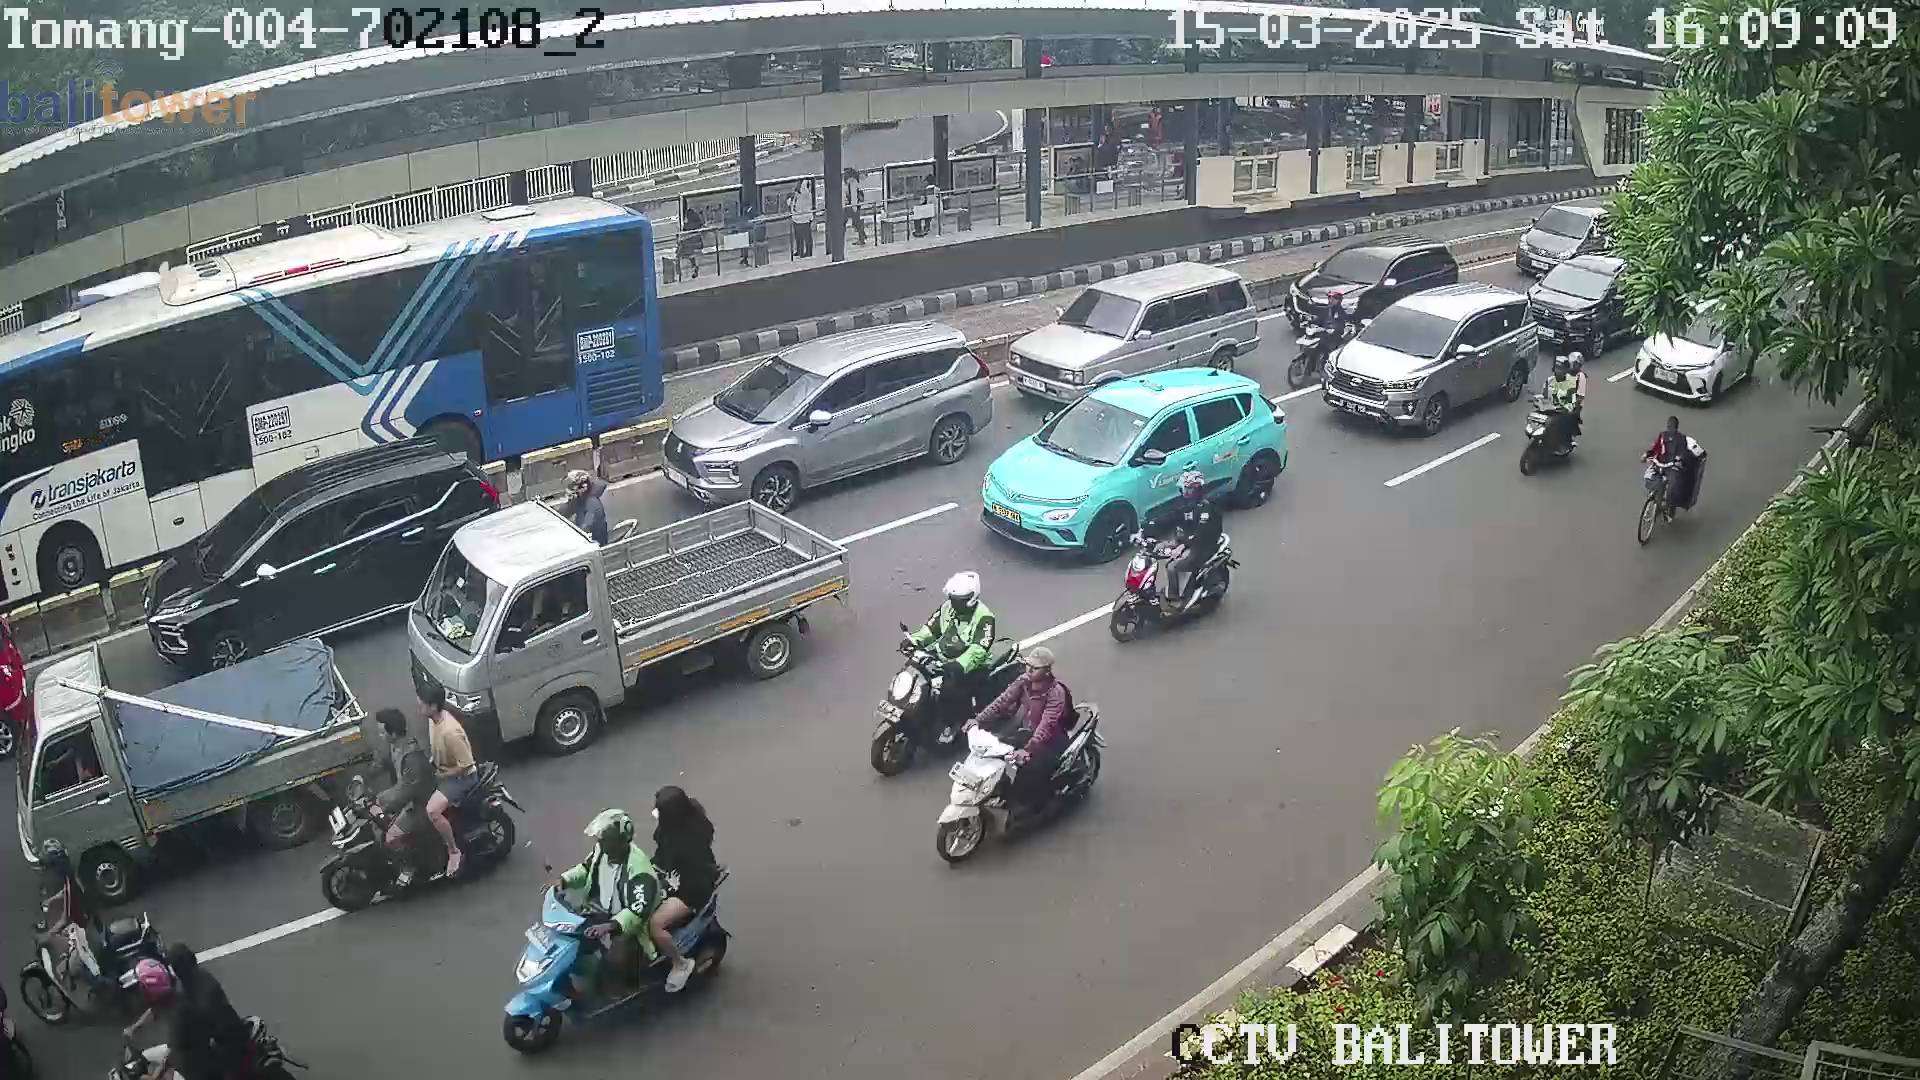full-face helmet: (563, 459, 610, 506)
half-face helmet: (570, 802, 643, 873), (117, 957, 176, 1018), (19, 827, 80, 882), (939, 563, 988, 620), (1172, 463, 1215, 520), (1545, 345, 1582, 382), (1323, 286, 1353, 320)
no helmet: (1012, 635, 1074, 708), (645, 776, 704, 843), (365, 702, 414, 771), (168, 937, 221, 996), (410, 680, 463, 729), (1659, 402, 1698, 449)
